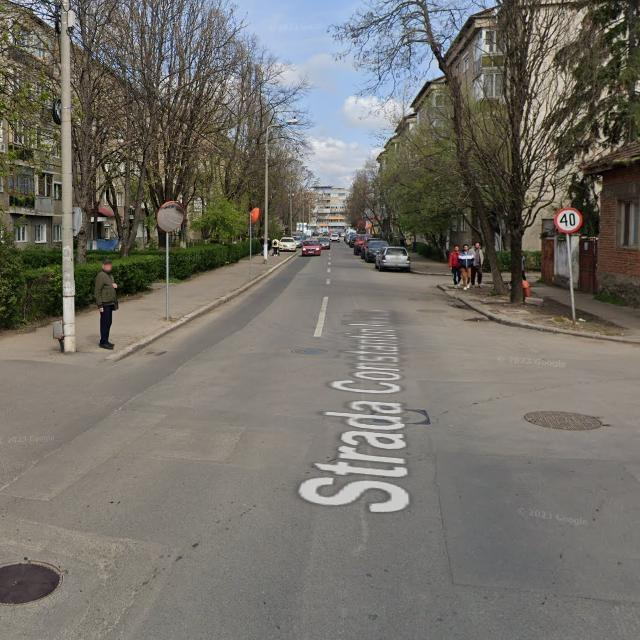forb_speed_over_40: (553, 208, 583, 233)
